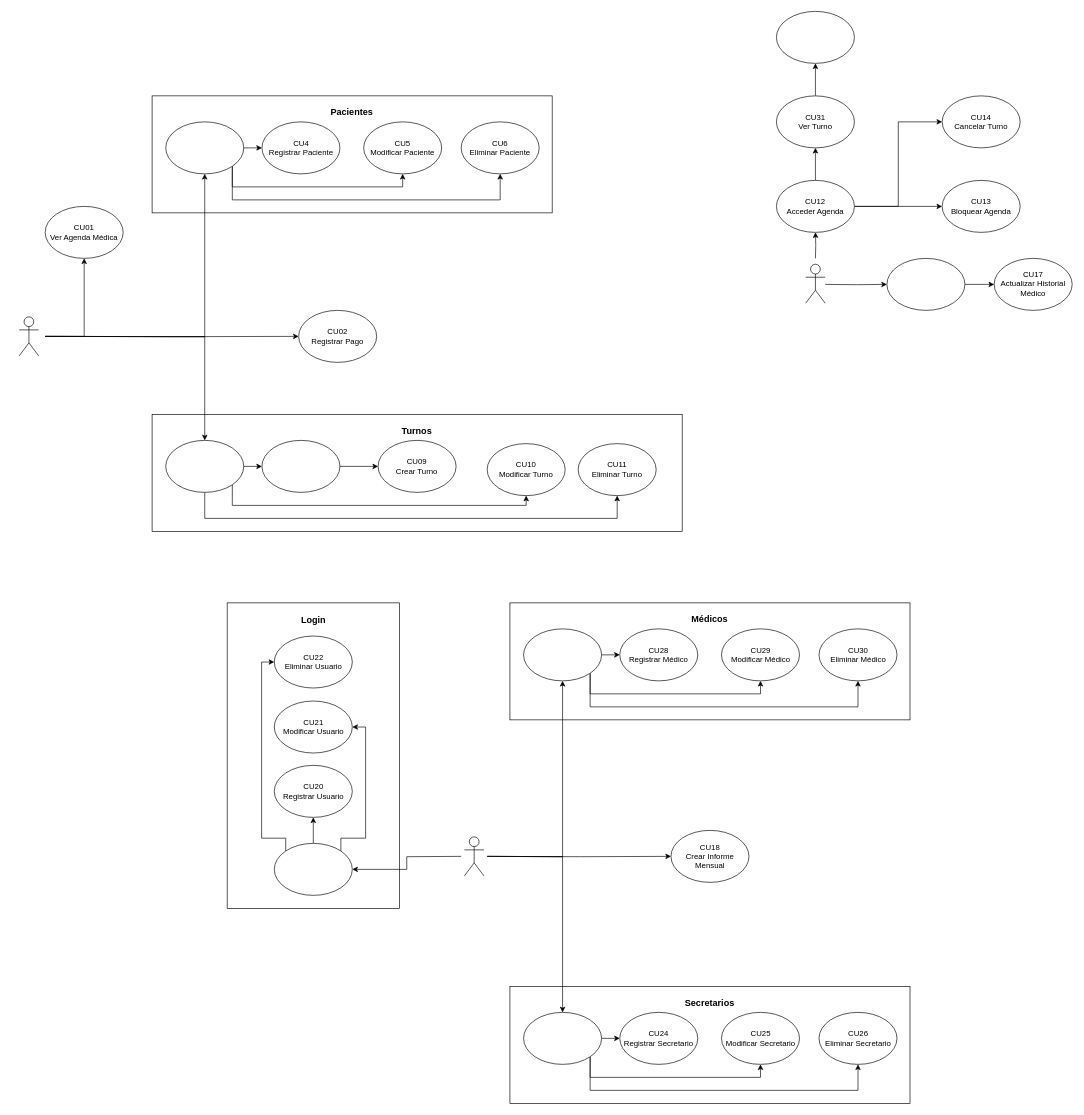
The diagram is 1084 pixels wide and 1115 high, and some of its shapes have lost their labels. The centre of each missing label's shape, as x and y in pixels:
Administrador: point 474,856
CU08 Ver Disponibilidad: point 300,466
CU15 Confirmar Asistencia del Paciente: point 815,37
CU16 Acceder Historial Médico: point 925,284
CU19 Ver Usuarios: point 313,869
CU23 Ver Secretarios: point 562,1038
CU27 Ver Médicos: point 562,654
CU3 Ver Pacientes: point 204,147
CU7 Ver Turnos: point 204,466
Médico: point 815,283
Secretario: point 29,336
